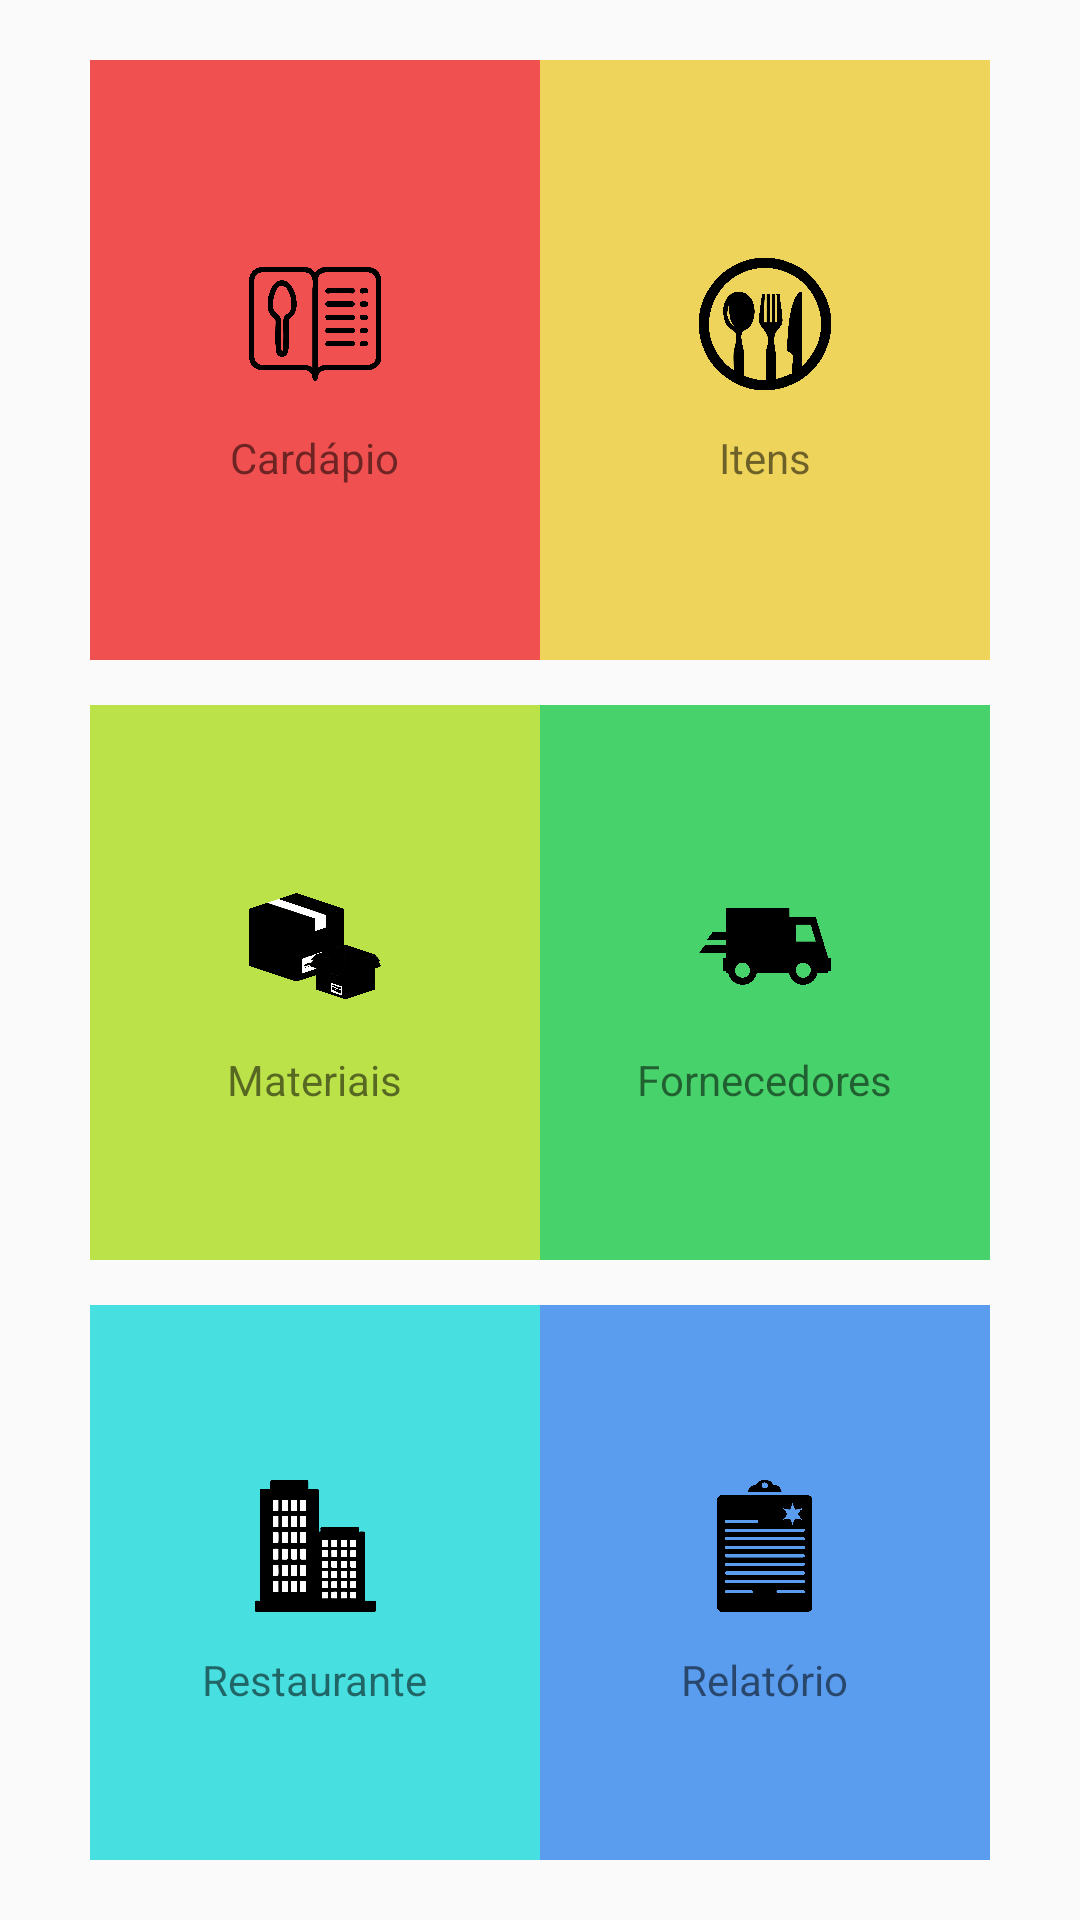

Named icons in this screenshot (1080px×1920px) and their centers, (x=x, y=y):
cardapio: (x=315, y=324)
empresa: (x=315, y=1546)
relatorio: (x=764, y=1546)
